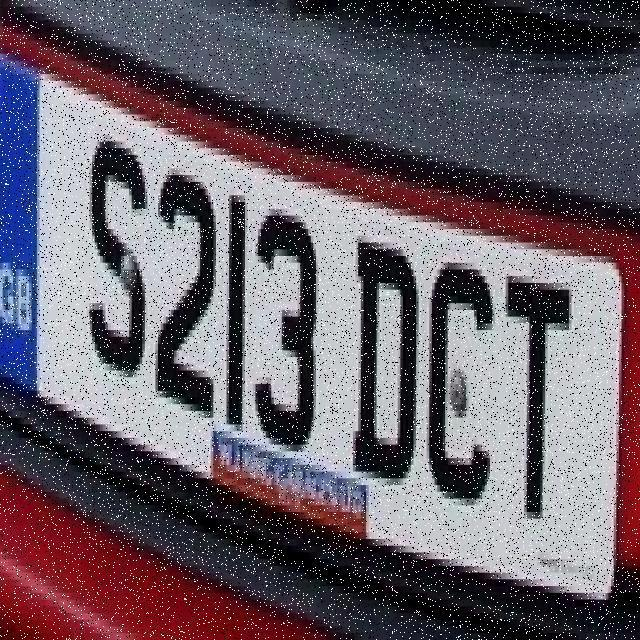LicensePlate: (0, 26, 627, 614)
